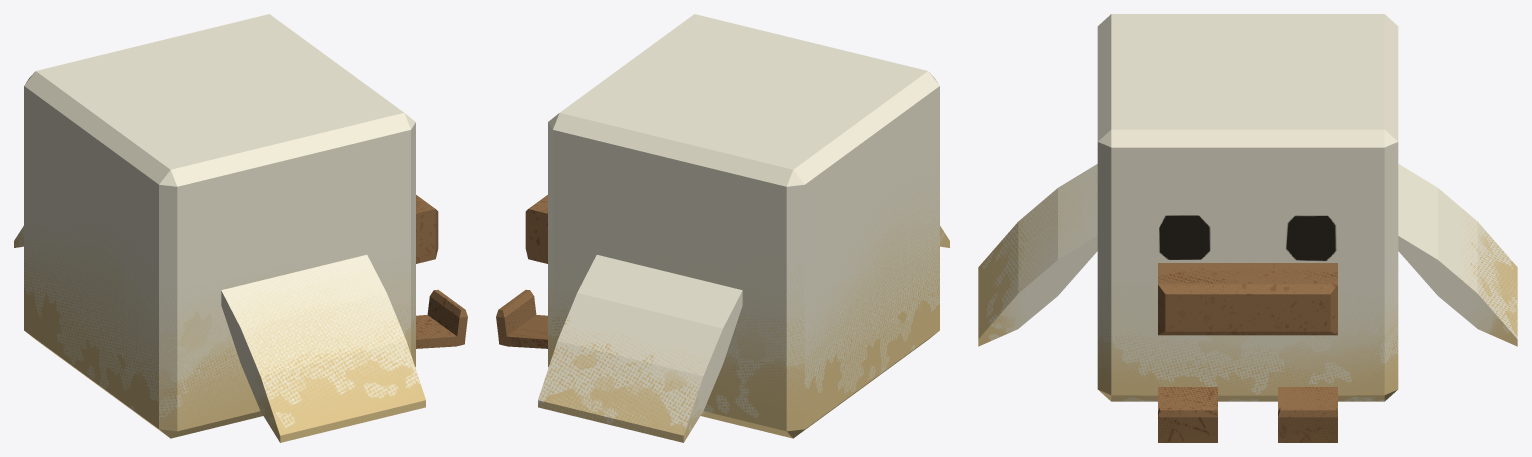
Rendered from Plushie chicken.fbx.
The picture shows the model from 3 angles, left to right: view 1: azimuth 30°, elevation 25°; view 2: azimuth 150°, elevation 25°; view 3: azimuth 270°, elevation 25°; orthographic projection.
Parts seen in each view (by area): view 1: chicken; view 2: chicken; view 3: chicken.
Boxes of the visible parts, left/top/right/bottom form: chicken: left=14, top=14, right=467, bottom=442; chicken: left=496, top=14, right=949, bottom=442; chicken: left=978, top=14, right=1517, bottom=442.
Bounding box in the file's own units: 258 × 200 × 359.
1 material, 1 textured.
